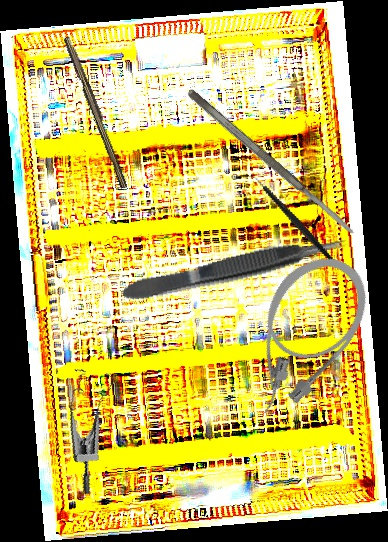Cannula: (215, 239, 386, 431)
Chopper: (243, 154, 340, 287)
Scalpel Handle: (60, 35, 133, 189)
Spatula Surgical: (184, 86, 359, 240)
Speculum: (50, 359, 143, 497)
Tissue Forceps: (119, 230, 350, 306)
